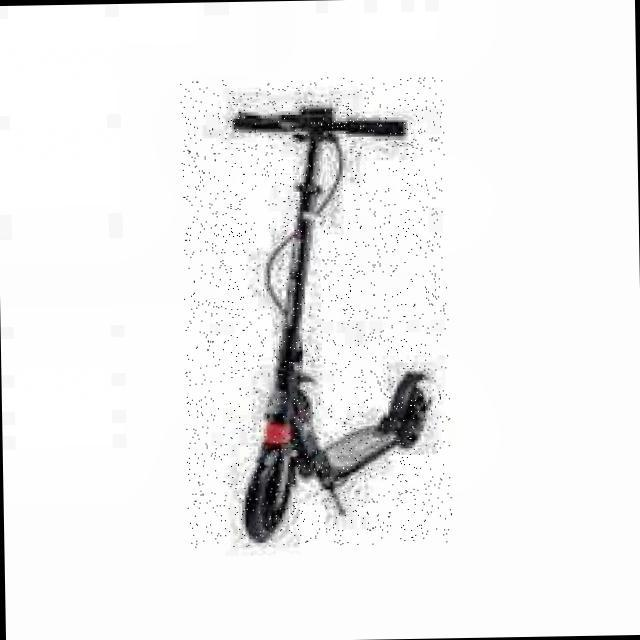bike: (243, 367, 437, 543)
